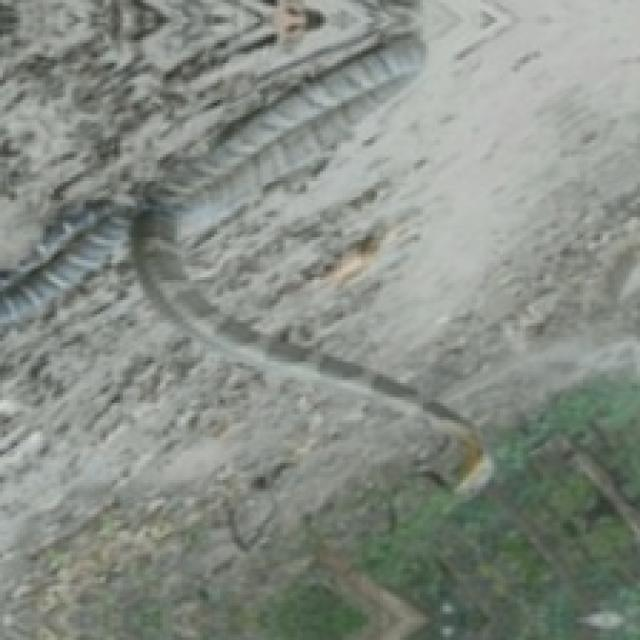king cobra: (0, 0, 486, 486)
